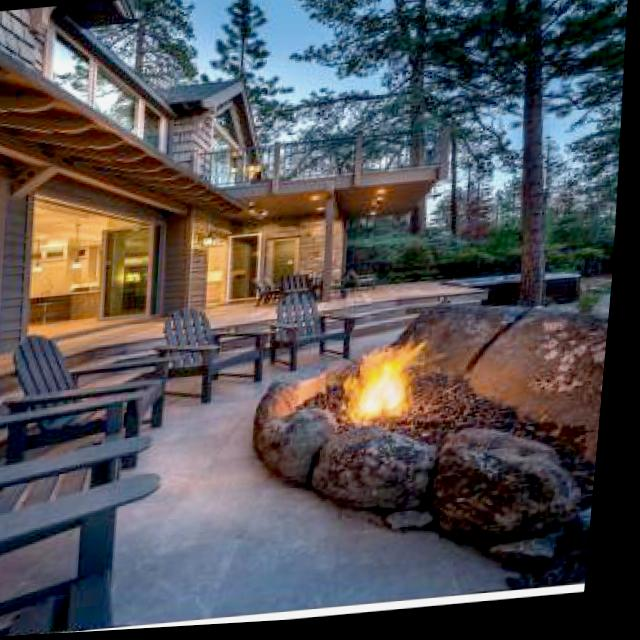helmet: (343, 323, 455, 437)
